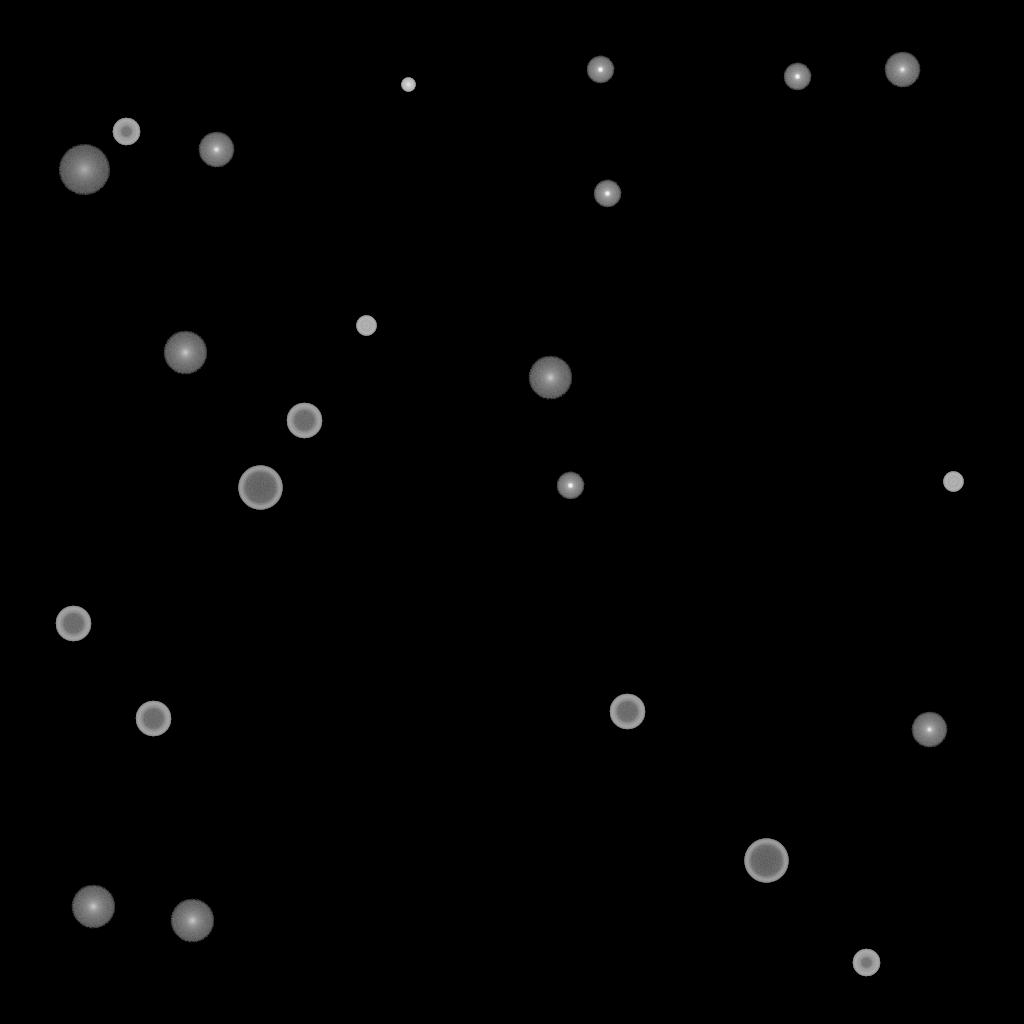depth:-10: (593, 180, 621, 208), (556, 472, 584, 500), (783, 63, 811, 91), (586, 56, 614, 84)
depth:-30: (401, 78, 415, 92)
depth:-40: (943, 472, 963, 492), (356, 316, 376, 336)
depth:-50: (852, 949, 880, 977), (112, 118, 140, 146)
depth:-60: (609, 694, 645, 730), (286, 403, 322, 439), (135, 701, 171, 737), (55, 606, 91, 642)
depth:-70: (238, 466, 282, 510), (744, 839, 788, 883)
depth:0: (911, 712, 947, 748), (198, 132, 234, 168), (884, 52, 920, 88)
depth:10: (170, 899, 214, 943), (528, 356, 572, 400), (71, 885, 115, 929), (163, 331, 207, 375)
depth:20: (58, 145, 110, 195)
